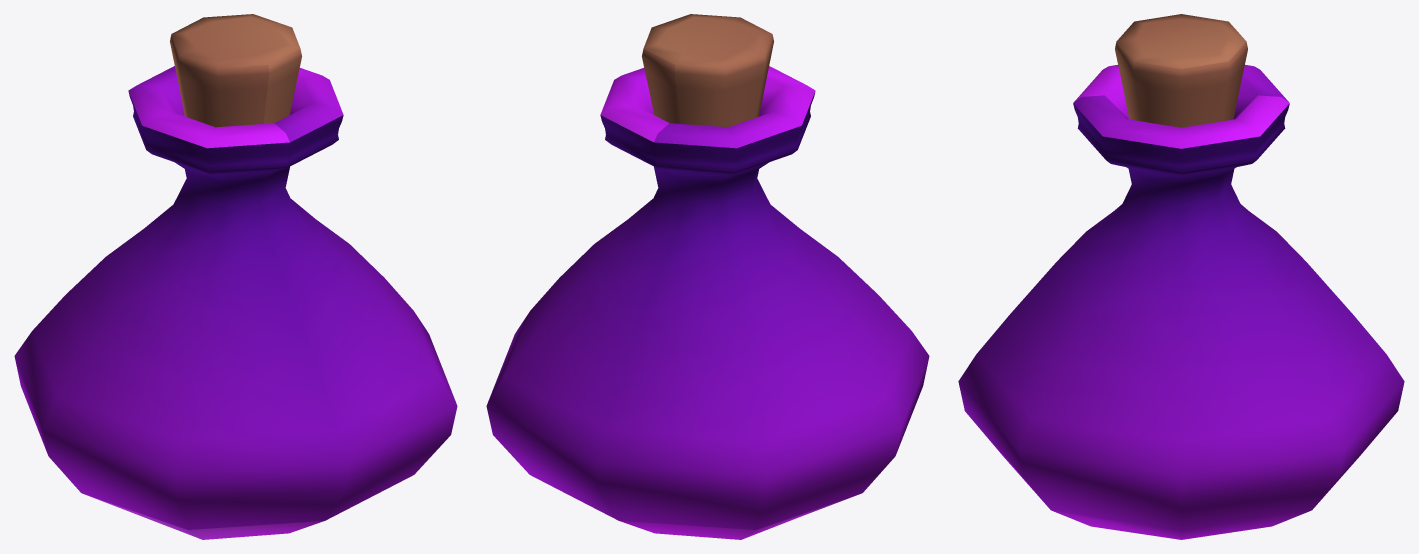
The model's file is POTION BOTTLE 4.fbx.
3 renders of one model, left to right at view 1: azimuth 30°, elevation 25°; view 2: azimuth 150°, elevation 25°; view 3: azimuth 270°, elevation 25°, orthographic.
Visible parts, largest first — view 1: Cube, Cube.001; view 2: Cube, Cube.001; view 3: Cube, Cube.001.
Boxes of the visible parts, left/top/right/bottom form: Cube: left=14, top=66, right=457, bottom=539; Cube.001: left=170, top=14, right=301, bottom=127; Cube: left=486, top=66, right=929, bottom=539; Cube.001: left=642, top=14, right=773, bottom=127; Cube: left=958, top=65, right=1404, bottom=539; Cube.001: left=1115, top=14, right=1247, bottom=127.
Size of the model in its own units: 315 by 367 by 315.
